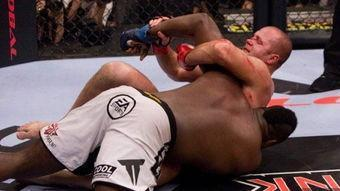Fall-Detected: (3, 0, 294, 191)
